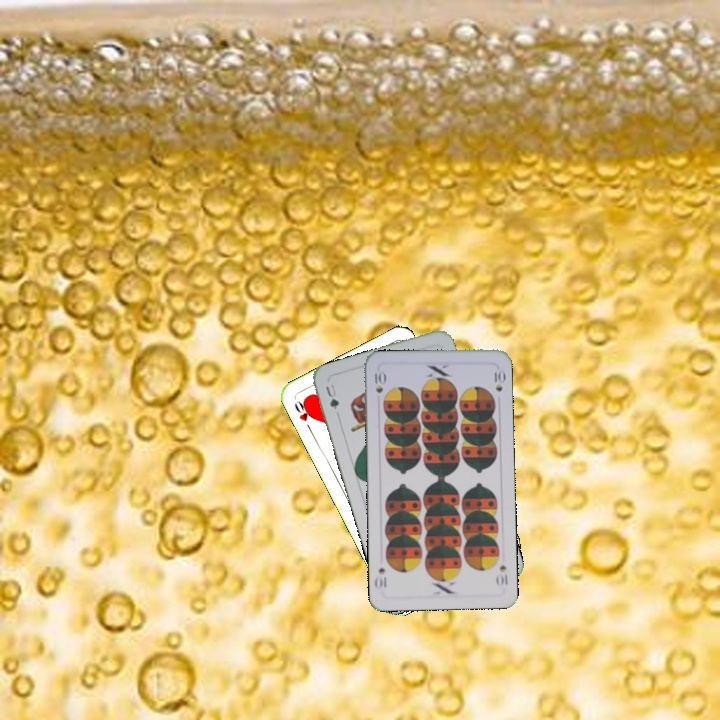GU: (321, 380, 342, 412)
HO: (290, 396, 316, 434)
S10: (493, 561, 511, 588), (371, 367, 387, 395)
